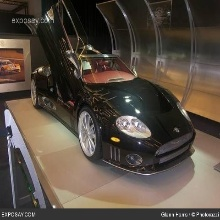no damage: (31, 50, 198, 175)
